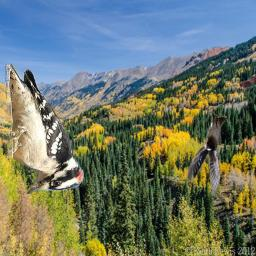Swallow: (187, 114, 227, 196)
Woodpecker: (5, 64, 84, 194)
